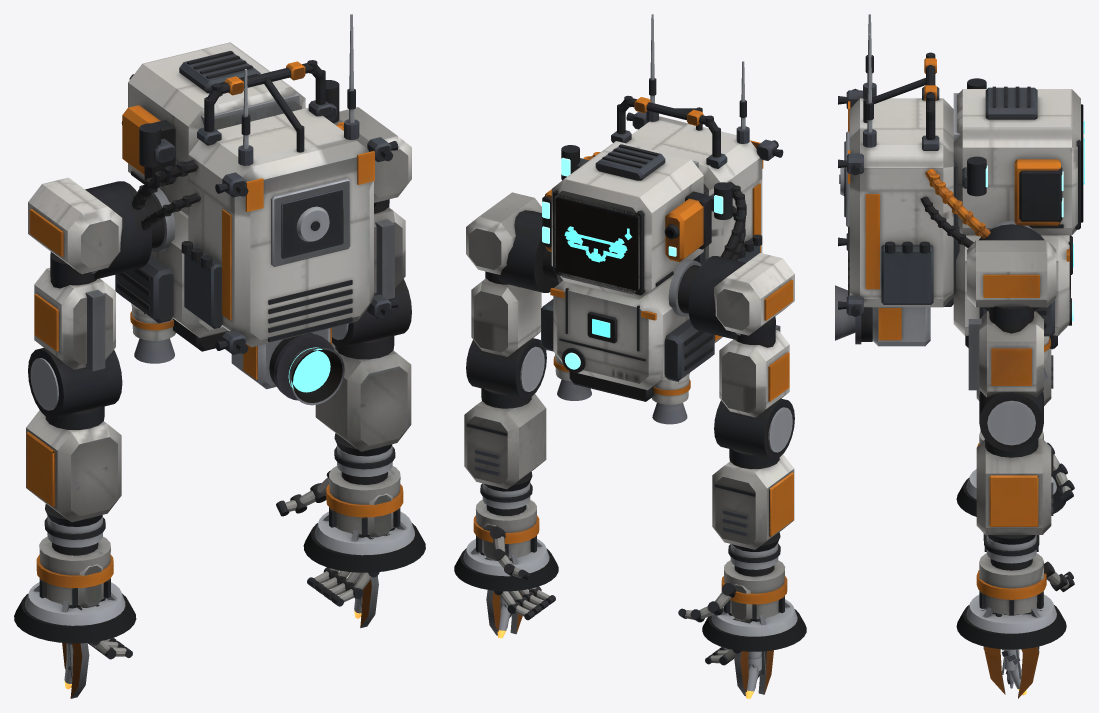
File: eva-tsumugi.glb
The picture shows the model from 3 angles, left to right: view 1: azimuth 30°, elevation 25°; view 2: azimuth 150°, elevation 25°; view 3: azimuth 270°, elevation 25°; orthographic projection. The views are drawn at different scales.
Visible parts, largest first — view 1: Body, Shoulder_L, Fore_L, Head, Fore_R, MainJet, Shoulder_R, Tool_pad_R, Tool_pad_L, Tool_hand_R, Tool_drill_R, Tool_drill_L (+6 smaller); view 2: Body, Head, Shoulder_L, Shoulder_R, Fore_L, Fore_R, Tool_pad_L, Tool_pad_R, Tool_hand_R, Tool_drill_L, Tool_drill_R, Tool_hand_L (+7 smaller); view 3: Body, Head, Shoulder_R, Fore_R, Tool_pad_R, MainJet, Tool_drill_R, Tool_cutter_R, Wrist_R, Tool_pad_L, Tool_hand_L, Tool_hand_R (+2 smaller).
Part boxes in pixels (left/top/right/bottom): Body: left=115, top=14, right=398, bottom=354; Shoulder_L: left=28, top=177, right=152, bottom=371; Fore_L: left=26, top=348, right=122, bottom=526; Head: left=121, top=42, right=305, bottom=216; Fore_R: left=315, top=279, right=411, bottom=456; MainJet: left=231, top=328, right=344, bottom=405; Shoulder_R: left=334, top=107, right=411, bottom=299; Tool_pad_R: left=303, top=471, right=425, bottom=572; Tool_pad_L: left=14, top=555, right=136, bottom=643; Tool_hand_R: left=276, top=470, right=393, bottom=606; Tool_drill_R: left=326, top=466, right=403, bottom=601; Tool_drill_L: left=36, top=536, right=113, bottom=671; Body: left=541, top=14, right=783, bottom=401; Head: left=542, top=141, right=711, bottom=299; Shoulder_L: left=688, top=253, right=794, bottom=417; Shoulder_R: left=466, top=192, right=559, bottom=356; Fore_L: left=712, top=398, right=794, bottom=551; Fore_R: left=464, top=338, right=546, bottom=491; Tool_pad_L: left=702, top=564, right=806, bottom=651; Tool_pad_R: left=454, top=504, right=558, bottom=591; Tool_hand_R: left=482, top=523, right=555, bottom=620; Tool_drill_L: left=721, top=560, right=787, bottom=688; Tool_drill_R: left=473, top=499, right=539, bottom=627; Tool_hand_L: left=678, top=583, right=752, bottom=665; Body: left=838, top=14, right=1073, bottom=348; Head: left=953, top=86, right=1083, bottom=235; Shoulder_R: left=967, top=224, right=1056, bottom=397; Fore_R: left=976, top=391, right=1053, bottom=544; Tool_pad_R: left=956, top=570, right=1066, bottom=649; MainJet: left=835, top=285, right=953, bottom=346; Tool_drill_R: left=976, top=553, right=1046, bottom=688; Tool_cutter_R: left=981, top=554, right=1042, bottom=698; Wrist_R: left=984, top=535, right=1039, bottom=563; Tool_pad_L: left=956, top=469, right=1065, bottom=516; Tool_hand_L: left=979, top=441, right=1074, bottom=551; Tool_hand_R: left=979, top=561, right=1074, bottom=648.
Size of the model in its own units: 0.7104 by 1.18 by 0.4315.
Materials: 5 (1 with a texture image).
